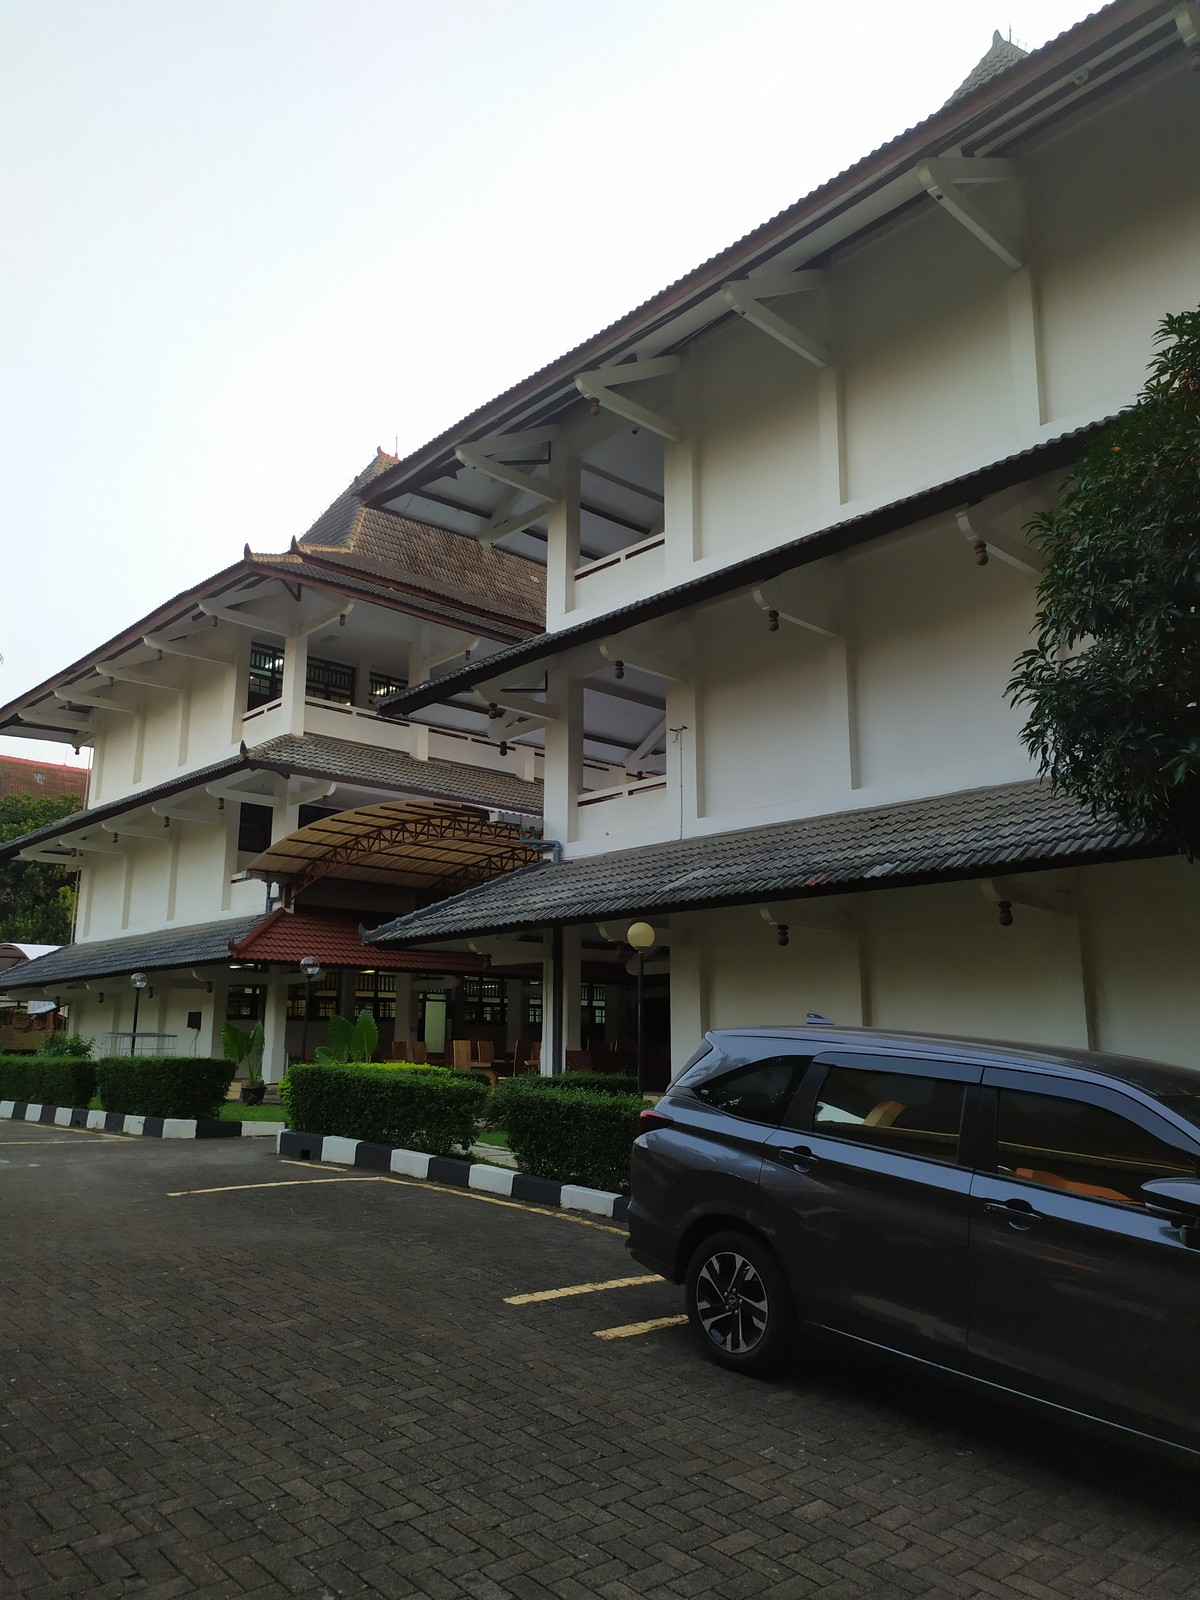concrete beam: (485, 460, 565, 504), (609, 401, 684, 441), (223, 611, 292, 637), (166, 640, 232, 666), (121, 670, 182, 693), (79, 690, 129, 714)
concrete column: (996, 197, 1055, 430), (807, 277, 858, 509), (819, 577, 871, 805), (662, 641, 713, 829), (659, 373, 708, 564), (537, 674, 589, 853), (537, 441, 585, 624), (662, 923, 712, 1067), (277, 601, 314, 732), (216, 624, 252, 753), (207, 795, 245, 907), (258, 966, 290, 1086), (266, 781, 303, 864), (171, 661, 194, 766), (158, 820, 182, 918), (113, 840, 136, 930), (127, 693, 147, 780)
